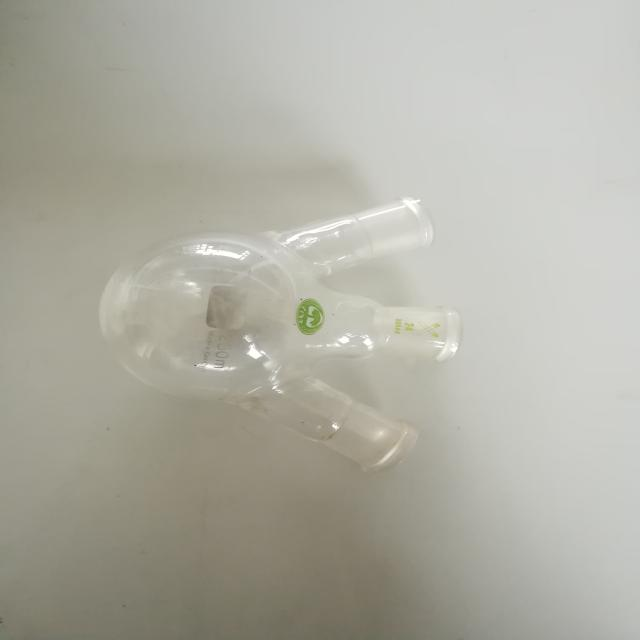Round_Bottom_Flask_Borosilicate_Glass_3_Neck: (91, 170, 497, 501)
